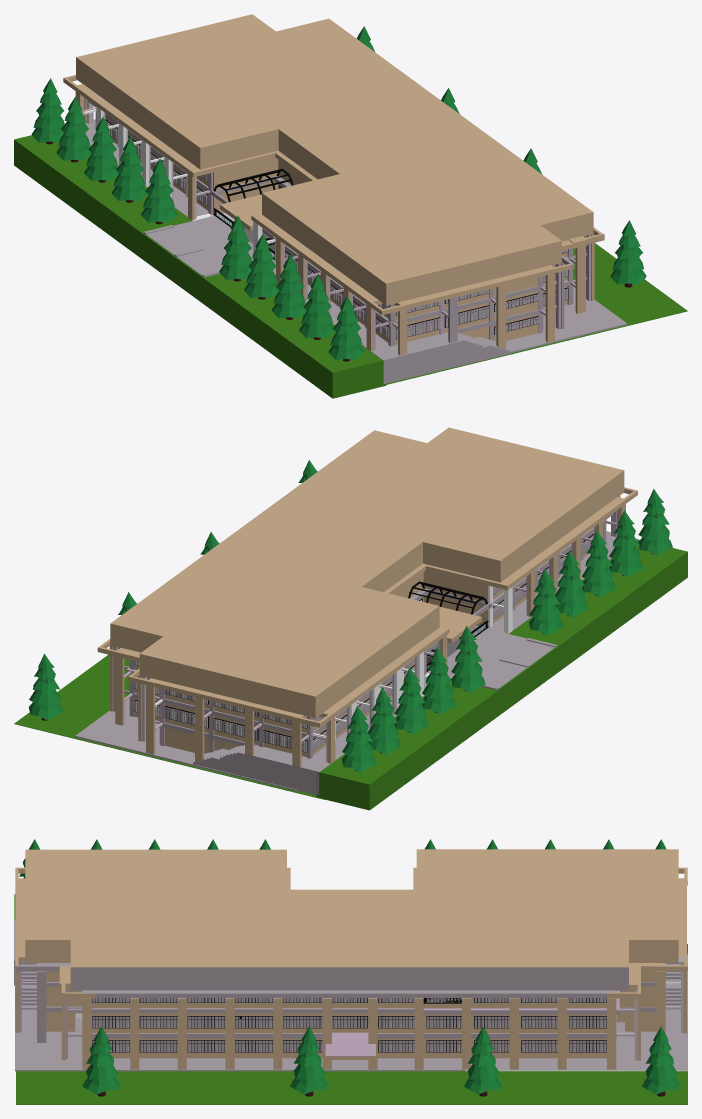
File: Library.glb
3 renders of one model, top to bottom at view 1: azimuth 30°, elevation 25°; view 2: azimuth 150°, elevation 25°; view 3: azimuth 270°, elevation 25°, orthographic. The views are drawn at different scales.
Visible parts, largest first — view 1: conifer2_Cylinder.001; view 2: conifer2_Cylinder.001; view 3: conifer2_Cylinder.001.
Part boxes in pixels (x1,y1,x2,y2): conifer2_Cylinder.001: (14, 14, 687, 398); conifer2_Cylinder.001: (14, 427, 687, 810); conifer2_Cylinder.001: (14, 839, 687, 1104).
Size of the model in its own units: 64.62 by 16.81 by 100.
Materials: 161 (127 with a texture image).
